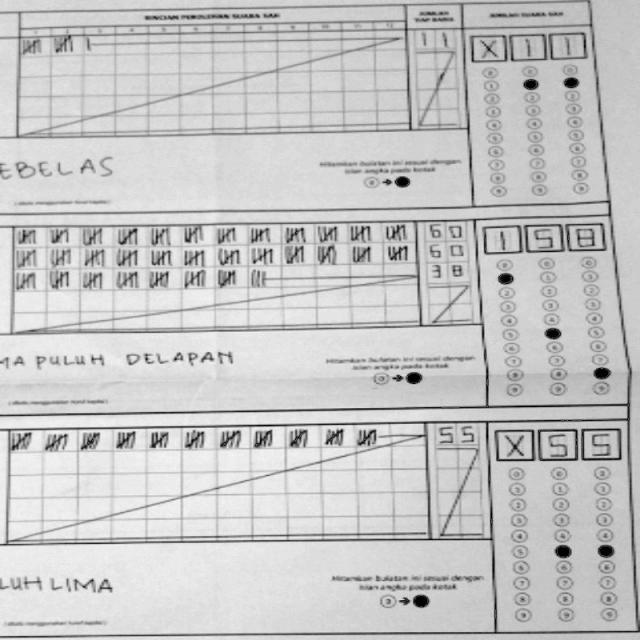Suara: (490, 422, 624, 460), (476, 216, 606, 254), (466, 31, 590, 60)
